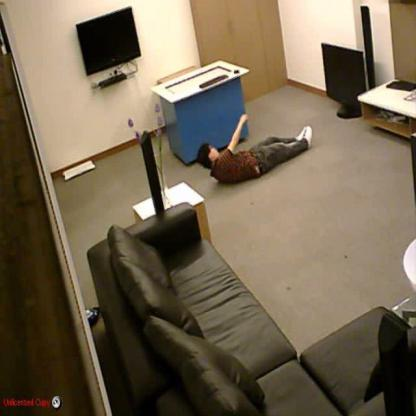Person: (197, 114, 312, 183)
